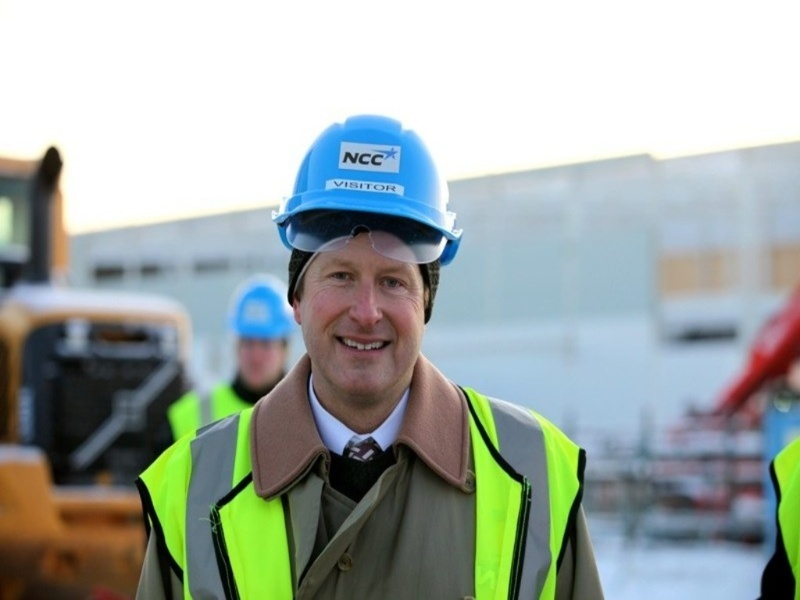baret: (272, 110, 465, 270)
